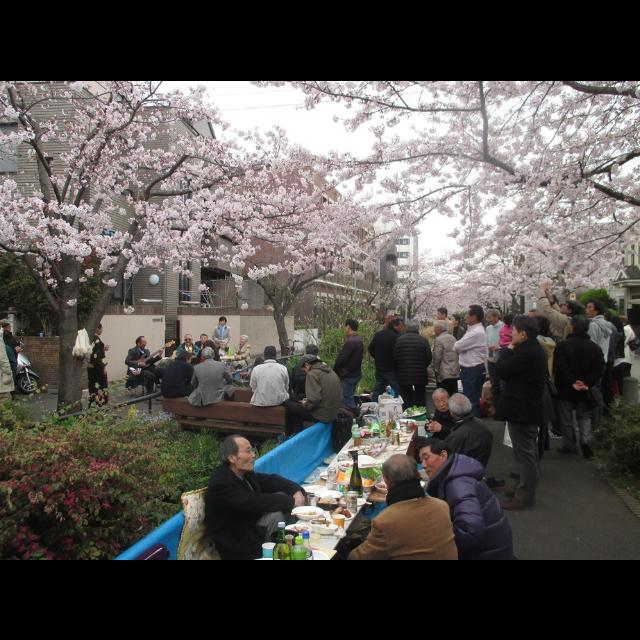head: (382, 452, 424, 492), (418, 438, 452, 482), (222, 436, 256, 472), (510, 316, 540, 346), (448, 393, 472, 419), (300, 354, 320, 376), (560, 298, 582, 318), (432, 388, 450, 412), (466, 304, 484, 326), (570, 316, 590, 334), (585, 300, 605, 318), (343, 318, 361, 336), (388, 318, 406, 334), (486, 308, 502, 326), (534, 317, 550, 335), (406, 318, 422, 334), (432, 320, 448, 336), (304, 344, 320, 358), (201, 348, 215, 360), (437, 307, 449, 321), (180, 351, 192, 364), (0, 318, 8, 336), (265, 346, 277, 358), (504, 313, 516, 325), (204, 340, 216, 352), (1, 319, 12, 331), (94, 323, 104, 335), (137, 336, 147, 348), (184, 334, 194, 346), (254, 358, 266, 368), (602, 310, 614, 320), (618, 314, 628, 326), (451, 314, 461, 324), (201, 333, 209, 343), (220, 316, 228, 326), (220, 342, 228, 351), (240, 336, 248, 344)
person: (494, 310, 554, 516), (407, 390, 498, 496), (530, 276, 588, 442), (550, 314, 610, 464), (506, 314, 558, 458), (275, 351, 343, 447), (392, 315, 436, 443), (451, 302, 491, 436), (576, 297, 614, 437), (409, 386, 467, 474), (278, 341, 330, 433), (364, 316, 408, 424), (583, 304, 623, 422), (248, 344, 294, 434), (188, 344, 238, 424), (332, 315, 366, 429), (429, 318, 463, 429), (480, 307, 512, 423), (124, 333, 176, 403), (160, 349, 208, 423), (84, 318, 115, 420), (608, 312, 640, 404), (427, 304, 457, 388), (1, 316, 20, 439), (0, 316, 26, 402), (442, 309, 470, 386), (173, 333, 203, 397), (246, 354, 274, 412), (194, 338, 222, 387), (498, 310, 518, 378), (212, 314, 234, 372), (211, 338, 233, 386), (232, 332, 252, 384), (192, 331, 212, 381)
